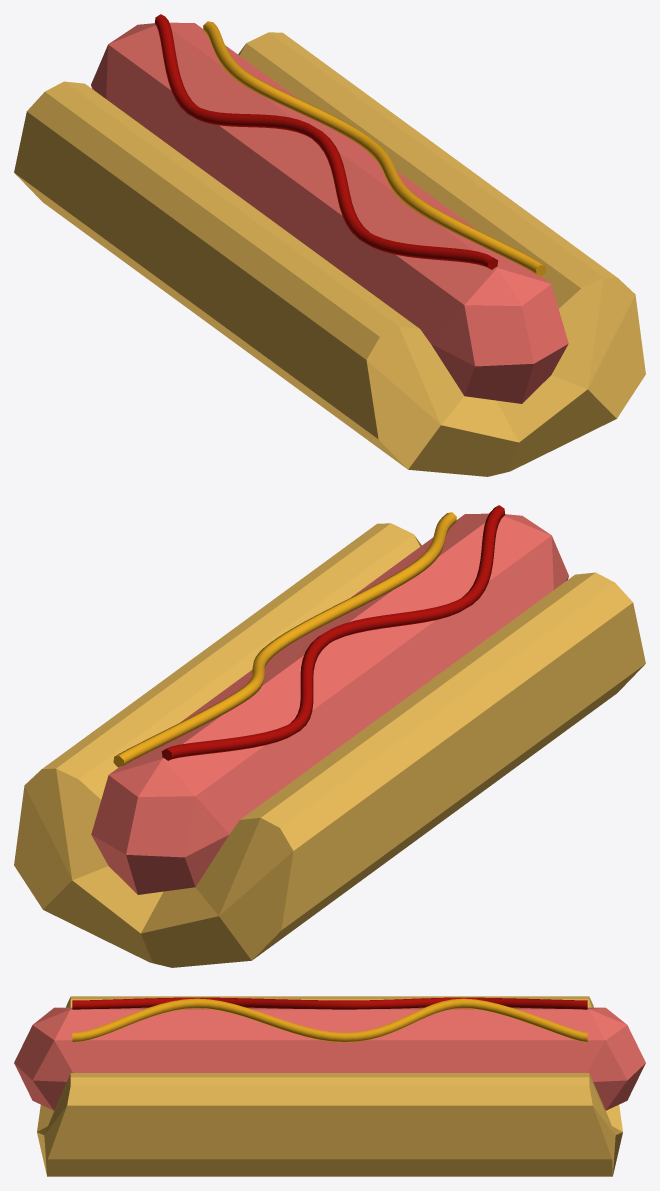
File: HP_Hotdog.fbx
3 views of the same model, one above another, from view 1: azimuth 30°, elevation 25°; view 2: azimuth 150°, elevation 25°; view 3: azimuth 270°, elevation 25° (orthographic). The views are drawn at different scales.
Parts seen in each view (by area): view 1: Cylinder; view 2: Cylinder; view 3: Cylinder.
Part boxes in pixels (x1,y1,x2,y2): Cylinder: [14, 14, 645, 476]; Cylinder: [14, 505, 645, 967]; Cylinder: [14, 996, 645, 1176].
Size of the model in its own units: 12.22 by 9.43 by 32.08.
